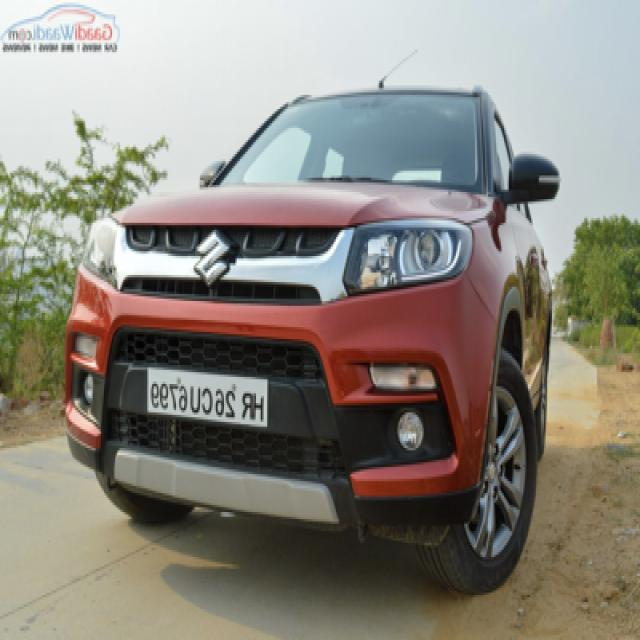number-plate: (136, 378, 261, 428)
